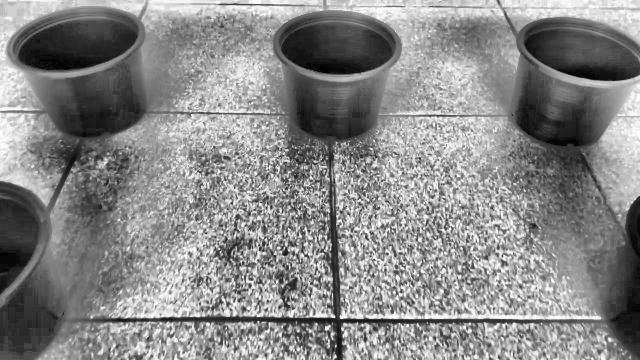pot: (6, 7, 148, 138), (508, 17, 640, 147), (273, 10, 402, 140)
